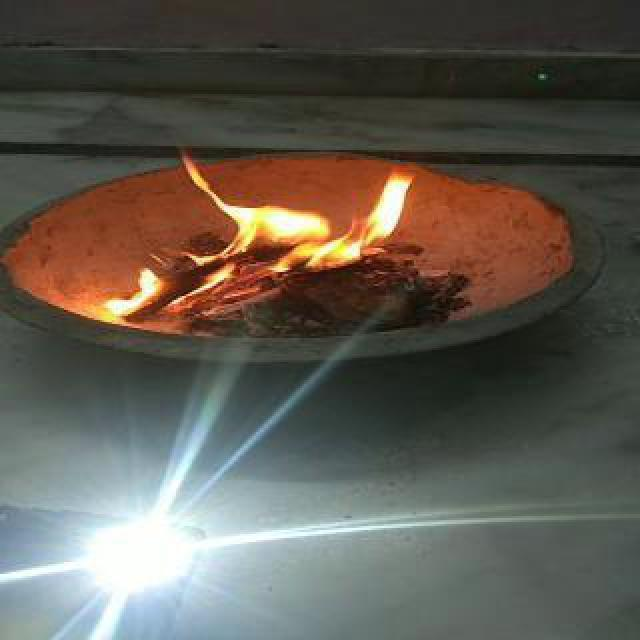Fire: (100, 150, 414, 320)
